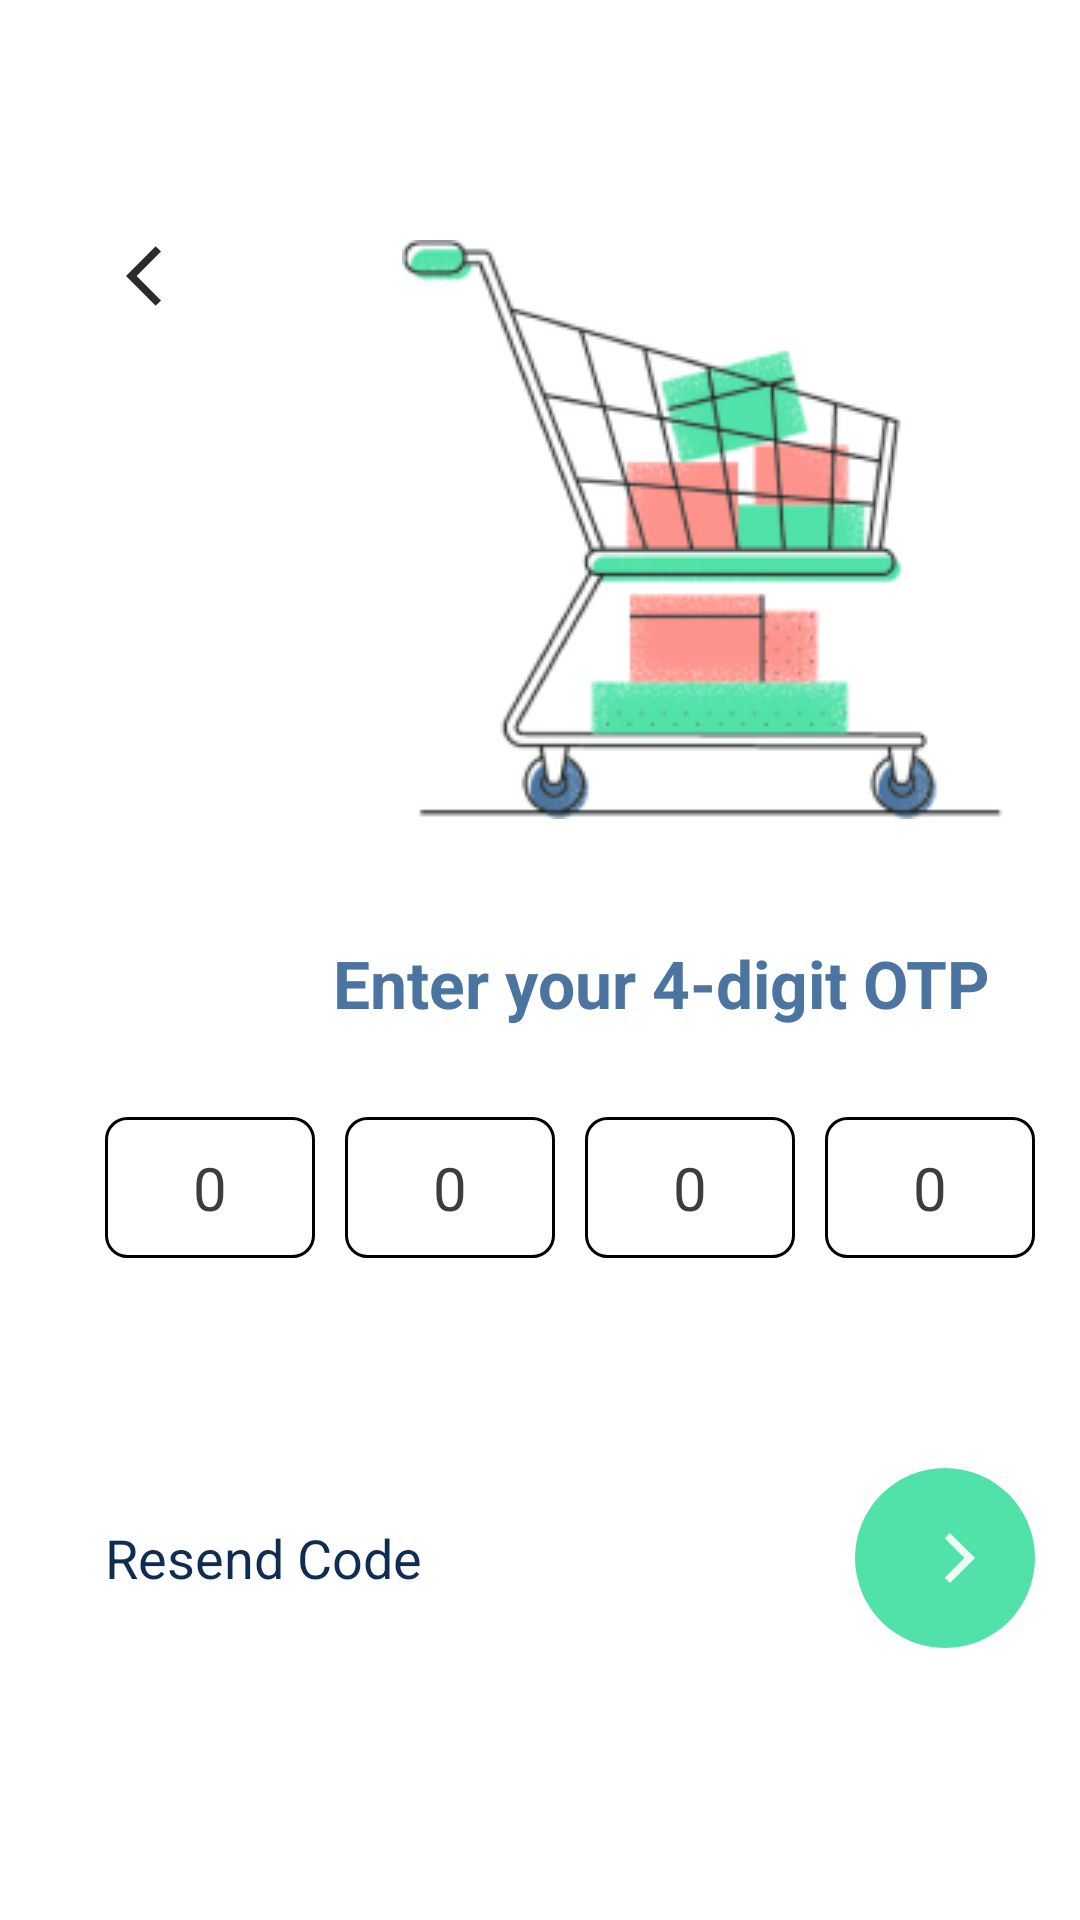

Icon bounding boxes for this 1080px x 1920px phone screenshot, format (x1, y1, x2, y2):
arrowback: (126, 246, 161, 306)
forwardarrow: (855, 1468, 1035, 1648)
